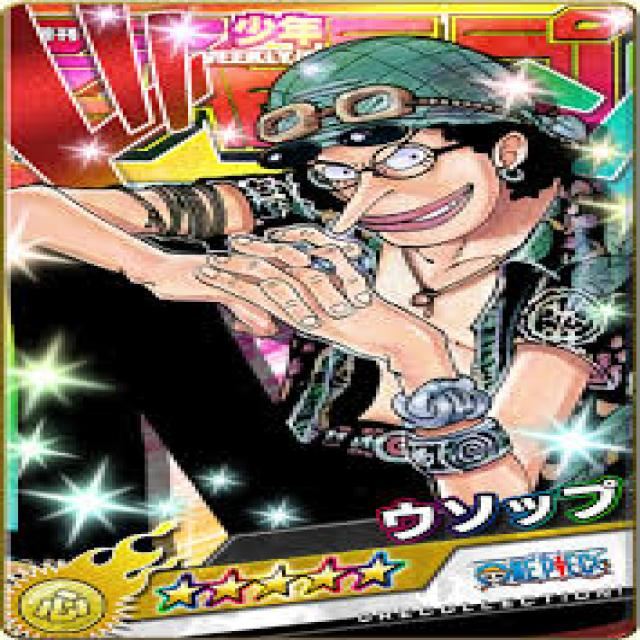Usopp: (11, 36, 622, 563)
